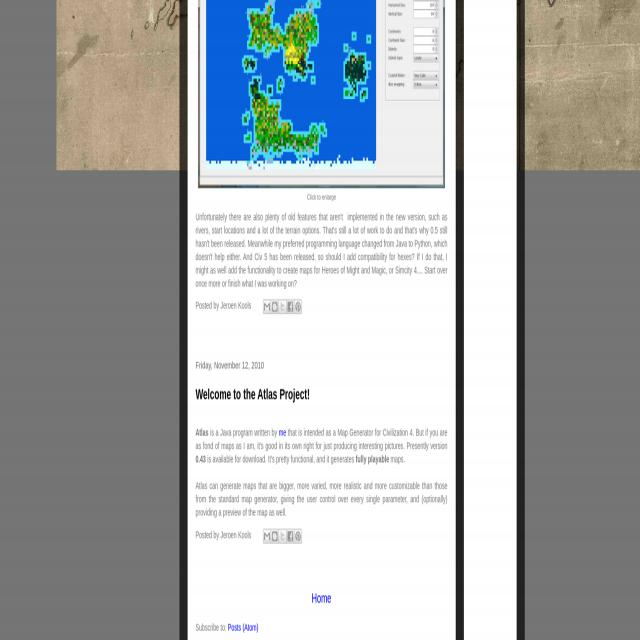button: (198, 0, 445, 187), (414, 71, 438, 80), (414, 80, 438, 89), (413, 54, 438, 62), (294, 299, 302, 314), (263, 529, 271, 544), (271, 300, 279, 314), (278, 300, 286, 314), (286, 300, 294, 314), (263, 300, 271, 314), (271, 529, 279, 543), (279, 529, 287, 543), (286, 529, 294, 543), (294, 529, 302, 543), (435, 10, 438, 14), (435, 1, 438, 5), (434, 28, 438, 31), (435, 31, 438, 35), (435, 36, 438, 40), (435, 40, 438, 44), (435, 45, 438, 49), (435, 49, 438, 53), (435, 5, 439, 8), (435, 14, 438, 17)
field: (413, 36, 435, 45), (413, 45, 435, 54), (414, 27, 434, 36), (414, 10, 434, 18), (414, 1, 434, 9)
